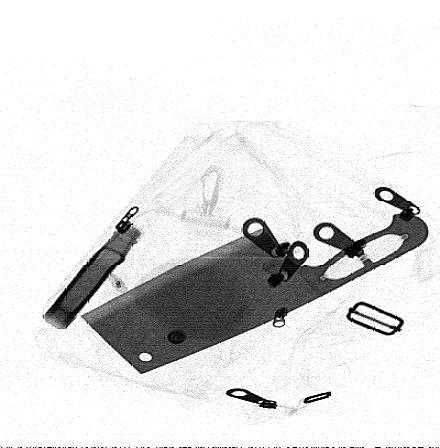Knife: (80, 209, 431, 376)
